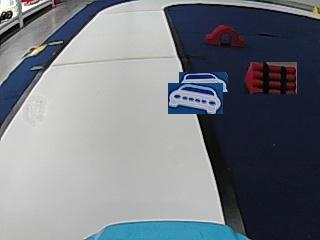bridge: (202, 23, 243, 47)
